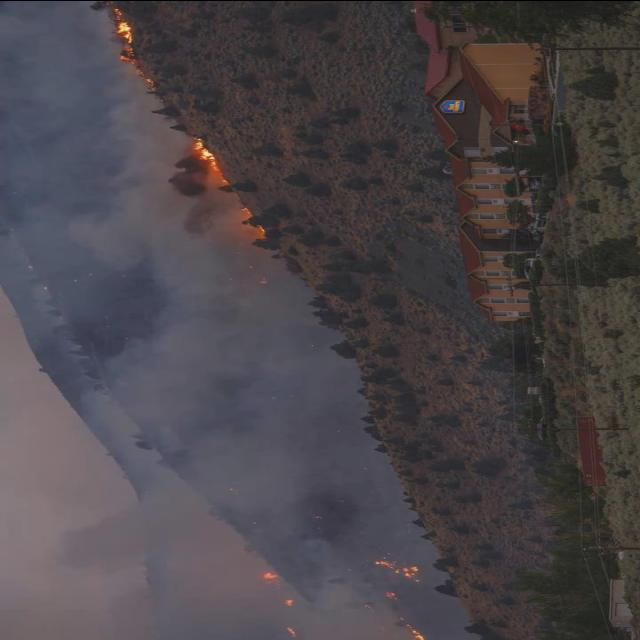Fire: (190, 138, 228, 185), (373, 559, 418, 581), (118, 22, 132, 45), (408, 625, 428, 639), (260, 570, 278, 578), (256, 225, 268, 235), (116, 56, 134, 62), (282, 626, 294, 634), (240, 206, 252, 214), (282, 597, 292, 605)
